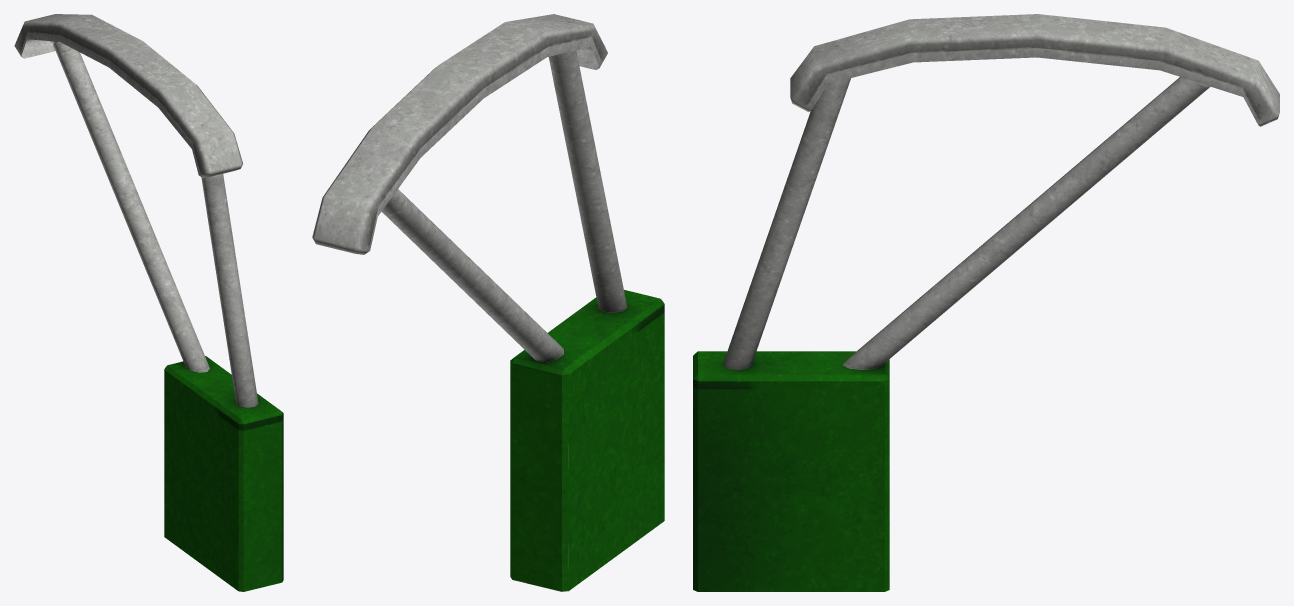
File: SoporteTechos.fbx
3 views of the same model, side by side, from view 1: azimuth 30°, elevation 25°; view 2: azimuth 150°, elevation 25°; view 3: azimuth 270°, elevation 25° (orthographic). The views are drawn at different scales.
Visible parts, largest first — view 1: pCylinder16; view 2: pCylinder16; view 3: pCylinder16.
Boxes of the visible parts, box(x1,y1,x2,y2) form: pCylinder16: box(14, 14, 283, 591); pCylinder16: box(312, 14, 664, 591); pCylinder16: box(693, 14, 1279, 591).
Bounding box in the file's own units: 2.51 × 23.51 × 22.5.
